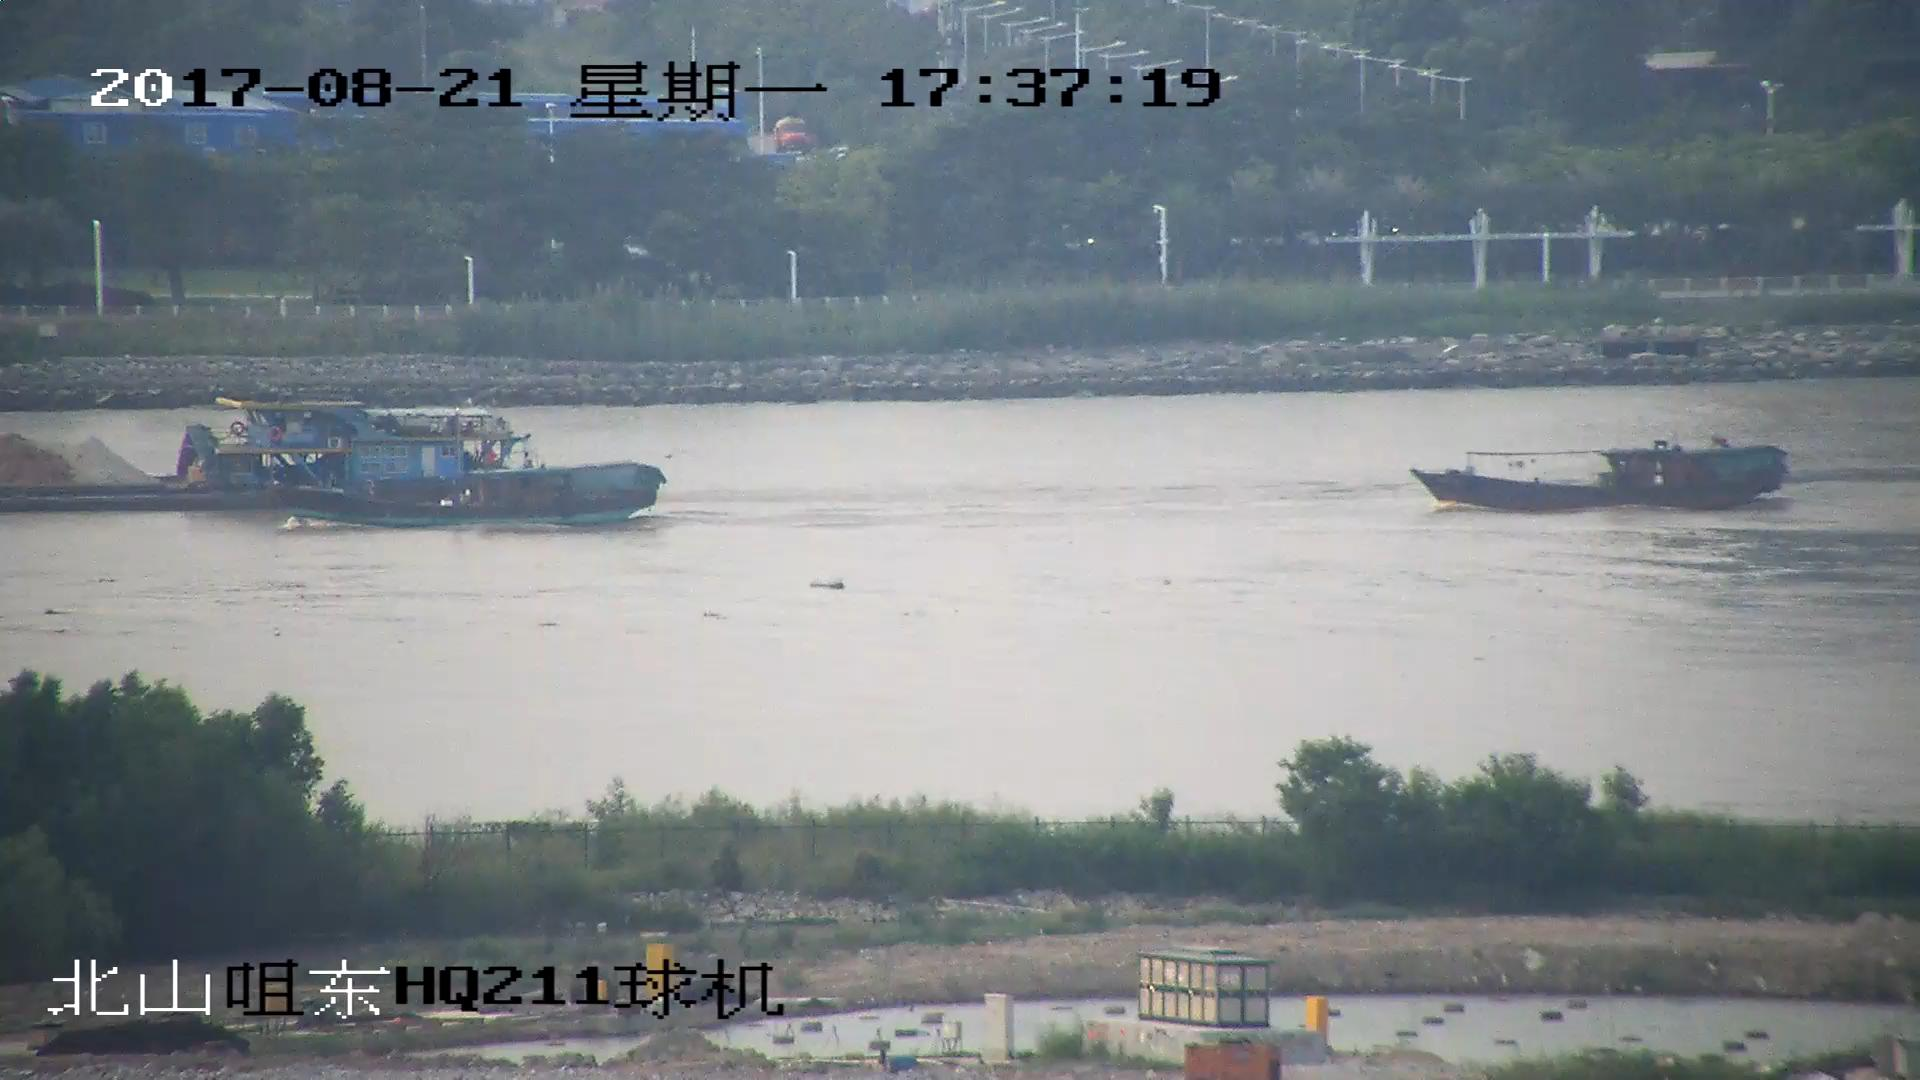fishing boat: (276, 428, 659, 528), (1410, 442, 1790, 508)
ore carrier: (1, 395, 290, 511)
